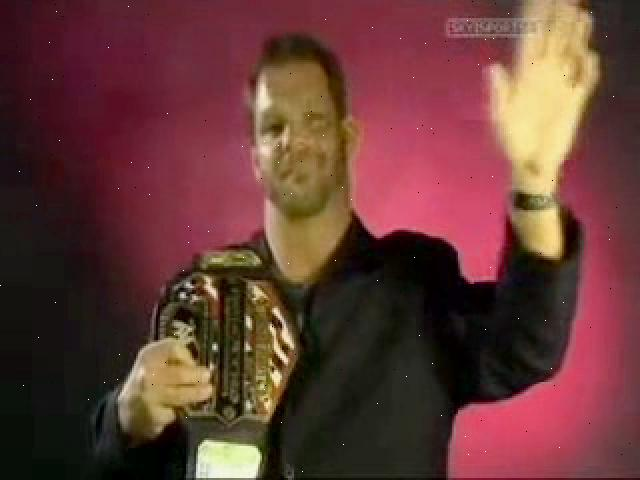L: (92, 24, 587, 478)
